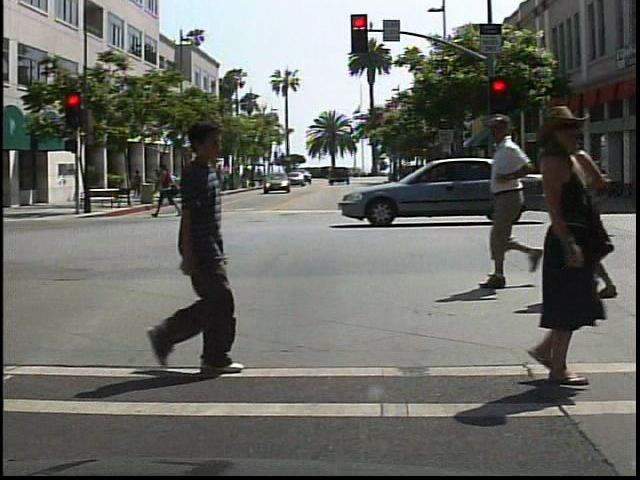person: (500, 104, 608, 388), (140, 114, 255, 377), (480, 112, 557, 296), (557, 115, 631, 304), (154, 158, 188, 219), (132, 165, 146, 201)
